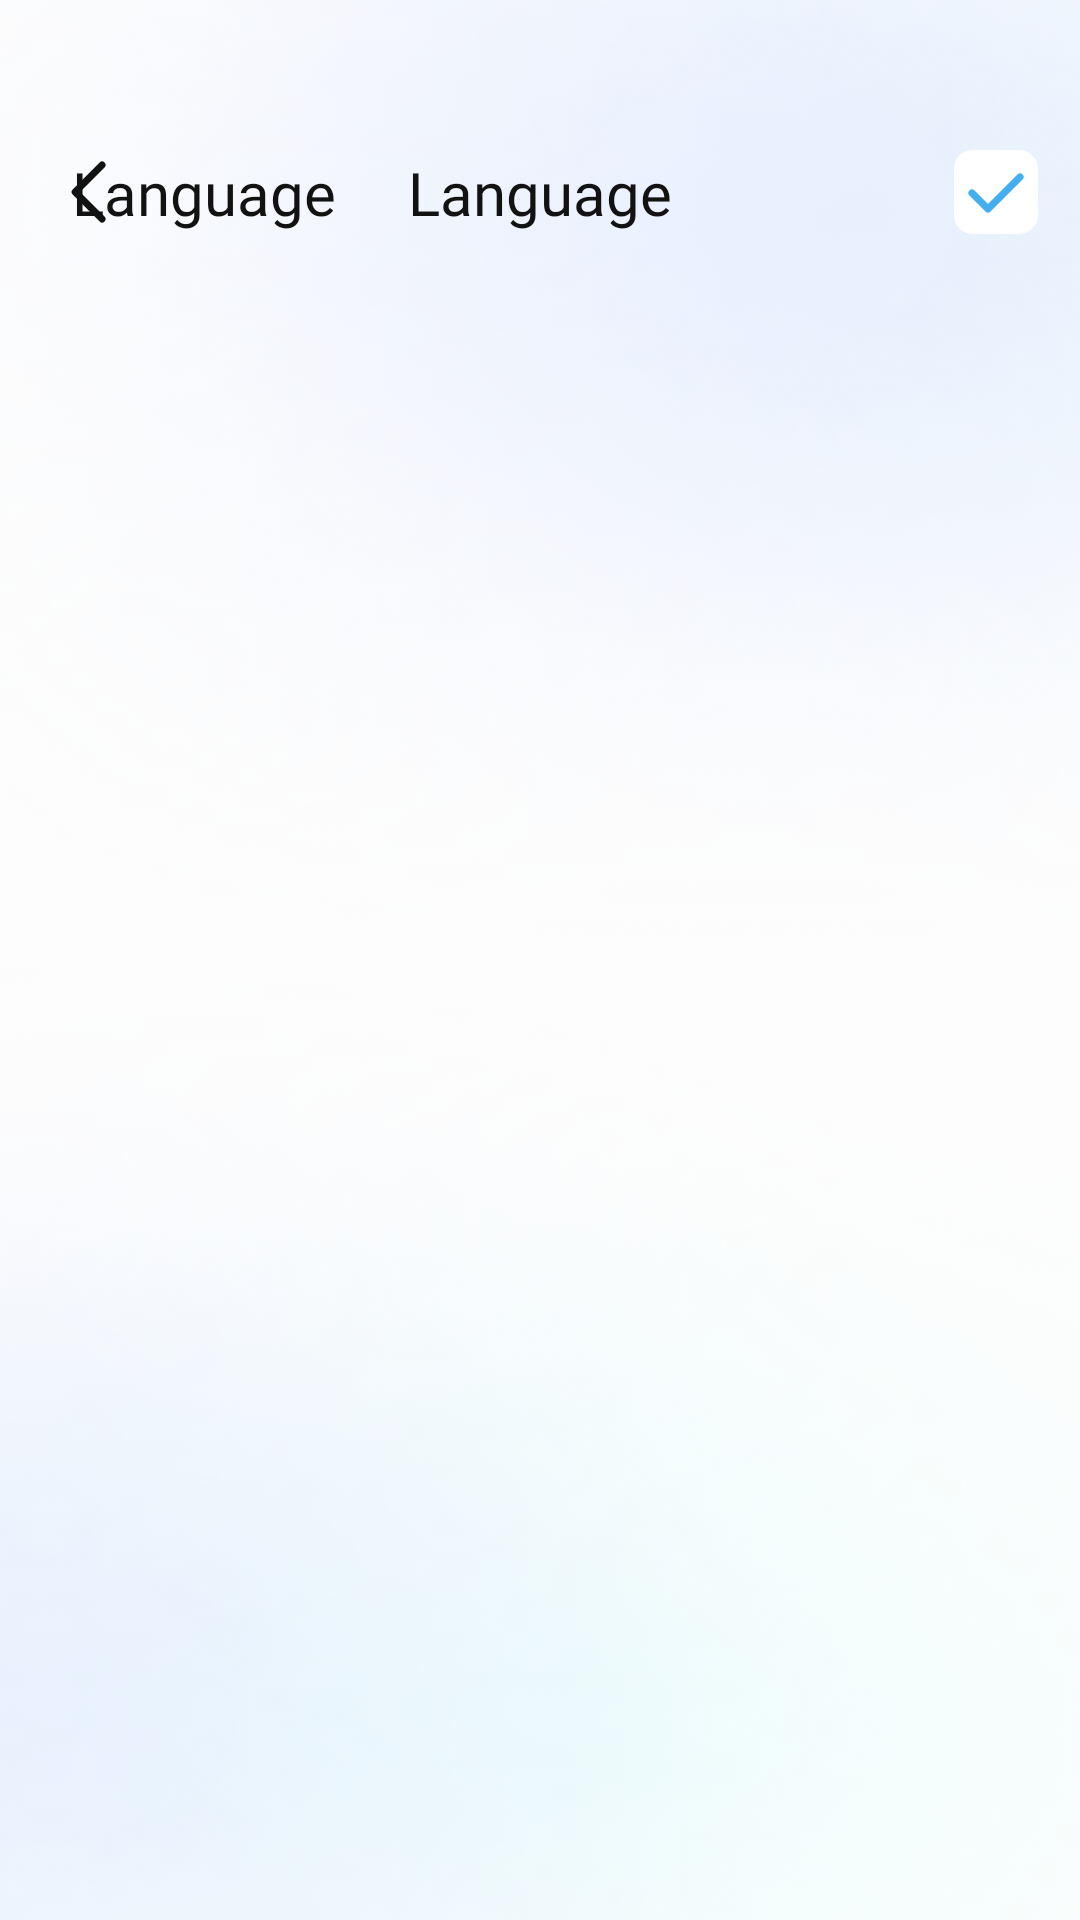

Named icons in this screenshot (1080*1920) and their bounding boxes, (x1, y1, x2, y2):
tick: (954, 150, 1038, 234)
